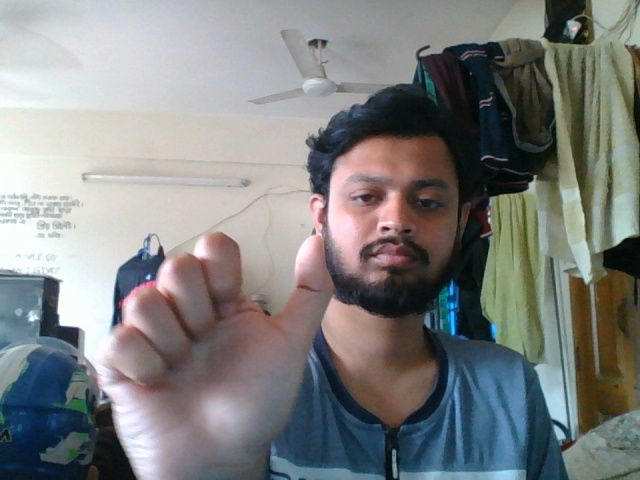dho: (94, 225, 341, 472)
